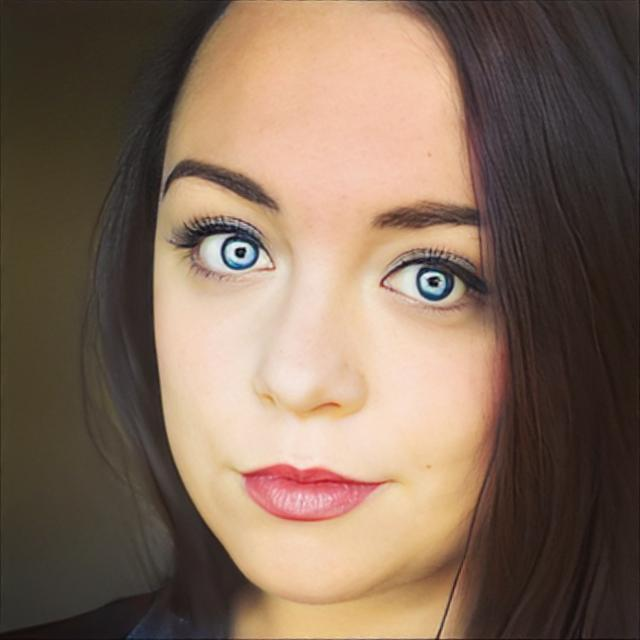content: (155, 0, 518, 606)
